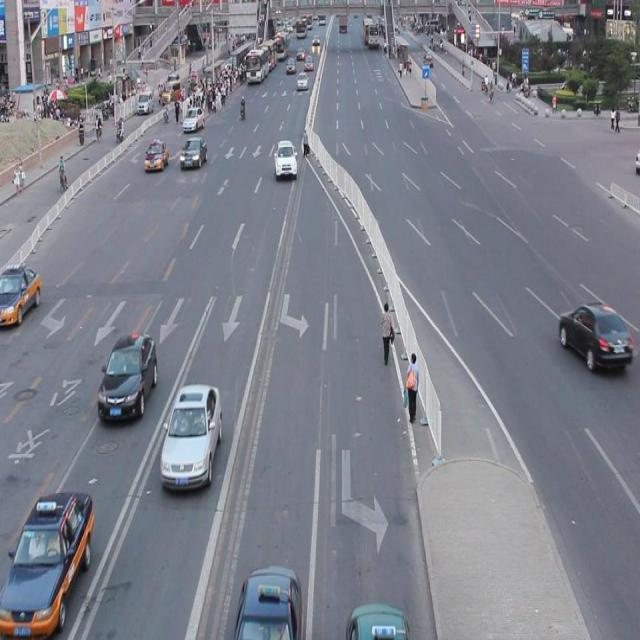car: (1, 489, 95, 640), (159, 382, 222, 493), (556, 298, 640, 371), (233, 560, 303, 640), (97, 330, 157, 423), (1, 264, 42, 327), (344, 601, 410, 640), (272, 139, 296, 180), (180, 136, 208, 170), (143, 139, 168, 173)
